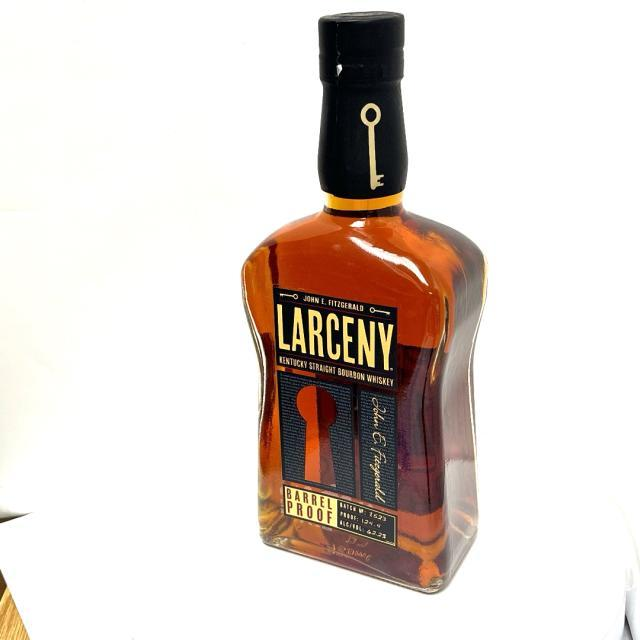LARCENY BARREL PROOF 750ML: (238, 6, 492, 600)
